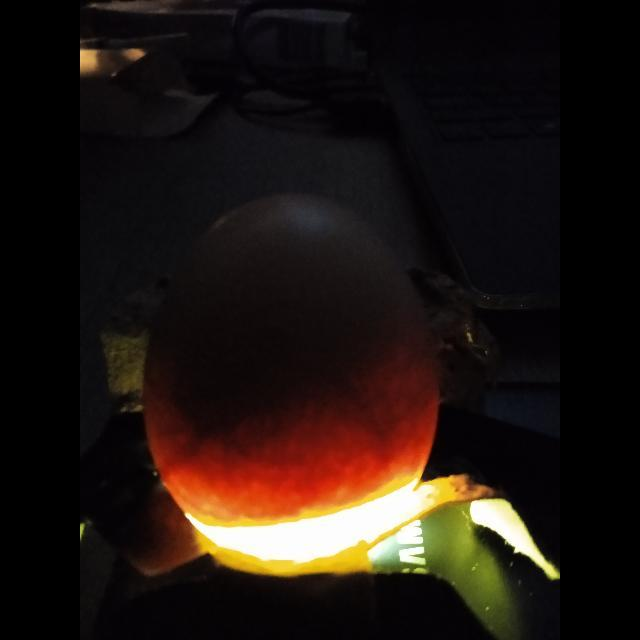Fertile: (136, 189, 444, 556)
